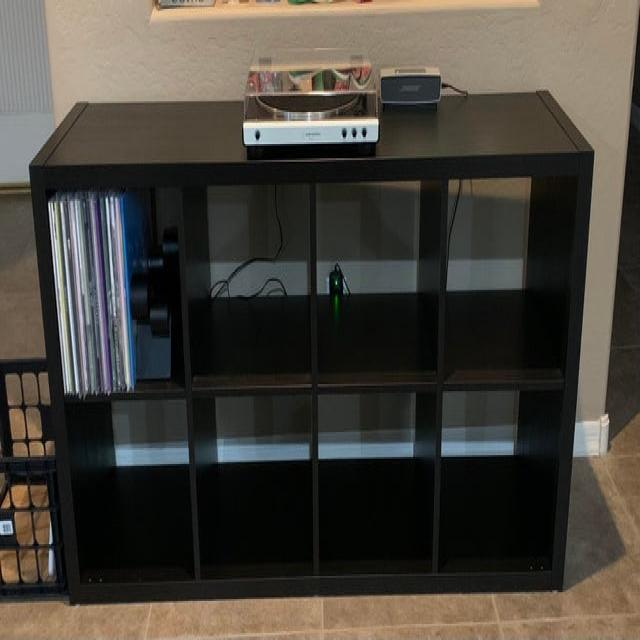Shelf: (24, 97, 592, 600)
